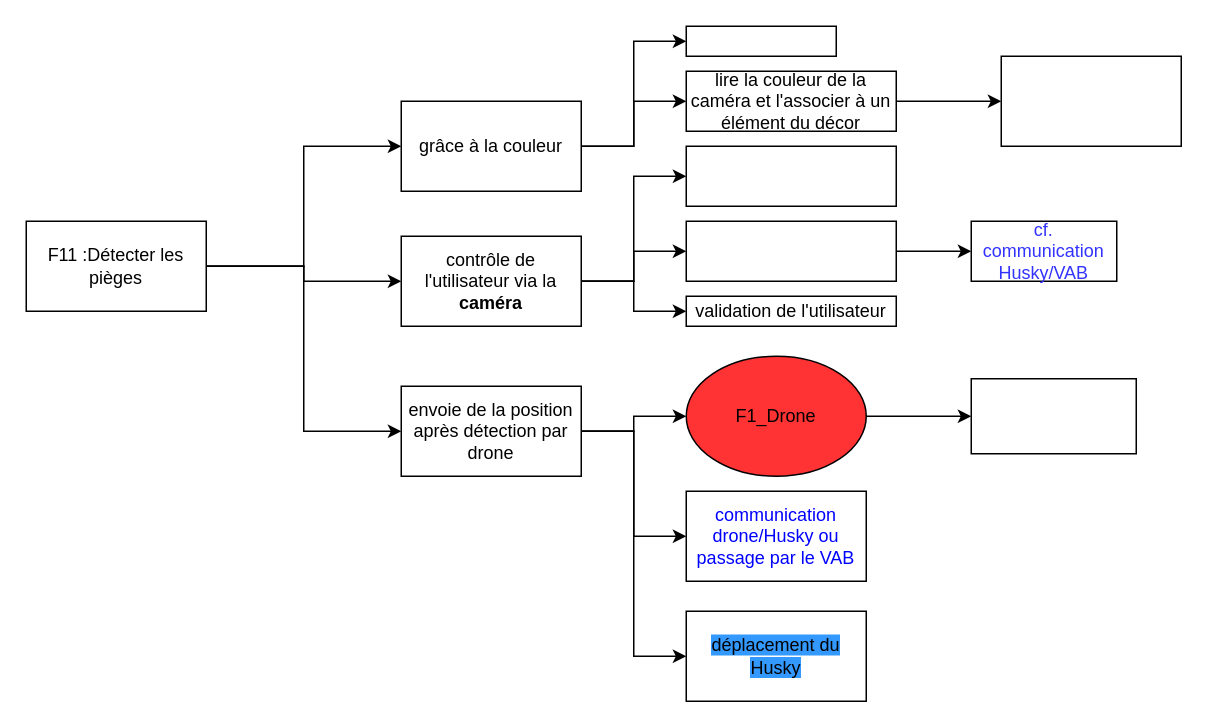
Some shapes in this 1208 by 728 pixel diagram are drawn without their labels. Here are the shapes that lost their labels. From the top down, the centre of each, then its label:
At point (760, 40): "caméra".
At point (1090, 100): "entraîner le modèle pour reconnaître les éléments via couleur/forme".
At point (790, 175): "détection en le prenant pour un obstacle/en le heurtant".
At point (790, 250): "demande à l'utilisateur si c'est un piège".
At point (1053, 415): "système de coordonnées pour se repérer".
